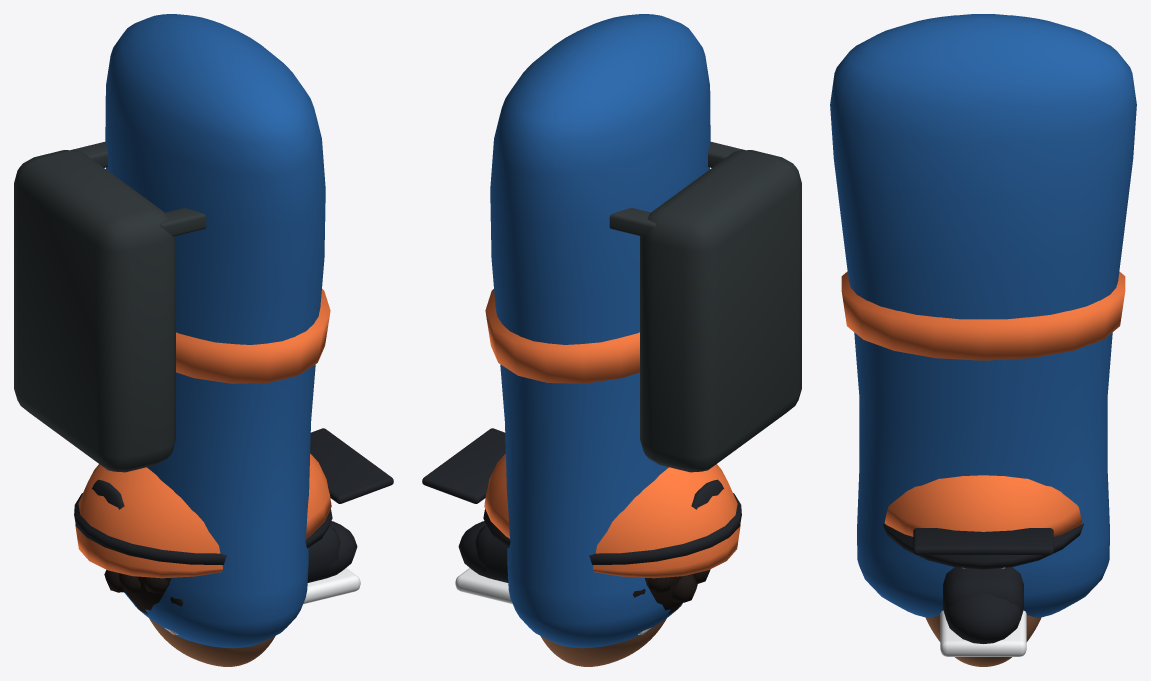
File: rider.glb
3 views of the same model, side by side, from view 1: azimuth 30°, elevation 25°; view 2: azimuth 150°, elevation 25°; view 3: azimuth 270°, elevation 25° (orthographic).
Visible parts, largest first — view 1: torso, helmet, head, shoe; view 2: torso, helmet, head, shoe; view 3: torso, helmet, shoe, head.
Part boxes in pixels (box(x1,y1,x2,y2)): torso: box(14, 14, 330, 648); helmet: box(74, 428, 393, 578); head: box(104, 570, 275, 666); shoe: box(134, 521, 360, 634); torso: box(485, 14, 801, 648); helmet: box(422, 428, 741, 578); head: box(540, 569, 710, 666); shoe: box(455, 521, 681, 634); torso: box(830, 14, 1136, 618); helmet: box(883, 475, 1083, 569); shoe: box(940, 567, 1026, 656); head: box(925, 615, 1041, 666).
Size of the model in its own units: 0.3994 by 0.7989 by 0.3495.
